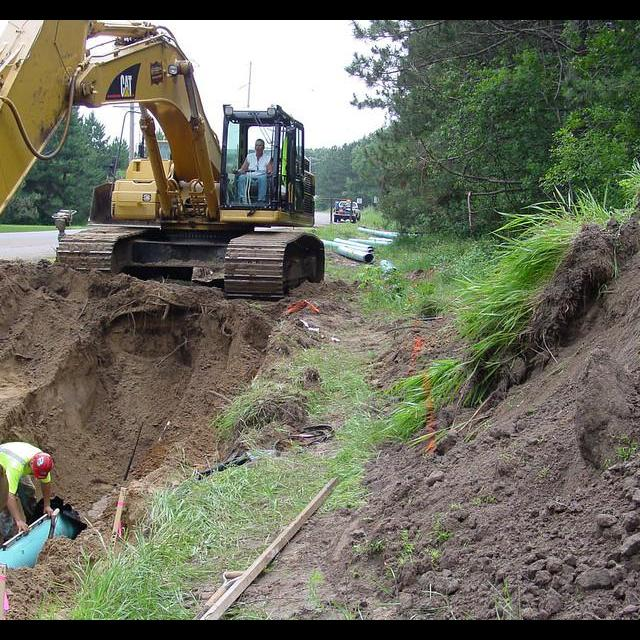Excavator: (0, 20, 327, 605)
Hardhat: (31, 452, 55, 479)
NO-Hardhat: (254, 138, 266, 145)
NO-Mask: (254, 146, 264, 154)
NO-Safety Vest: (245, 154, 269, 173)
Person: (0, 437, 55, 530), (234, 137, 272, 201)
Safety Vest: (0, 439, 51, 493)
truck: (334, 198, 361, 224)
